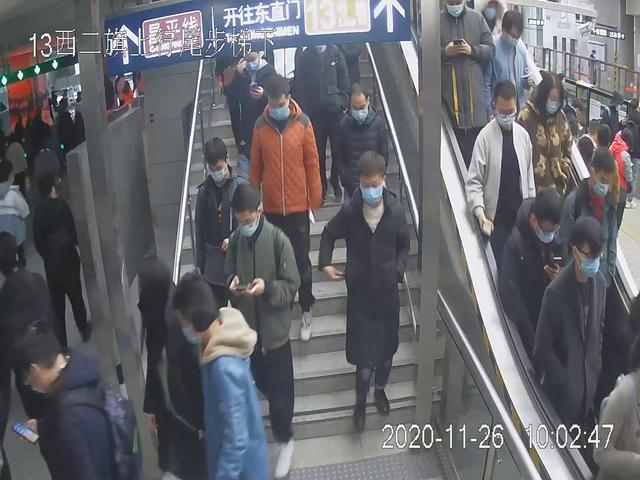person: (318, 147, 410, 432), (219, 182, 304, 480), (244, 74, 327, 346), (171, 265, 271, 480), (531, 215, 609, 470), (464, 78, 540, 302), (193, 138, 264, 354), (434, 1, 500, 209), (329, 83, 392, 274), (519, 68, 577, 271)
